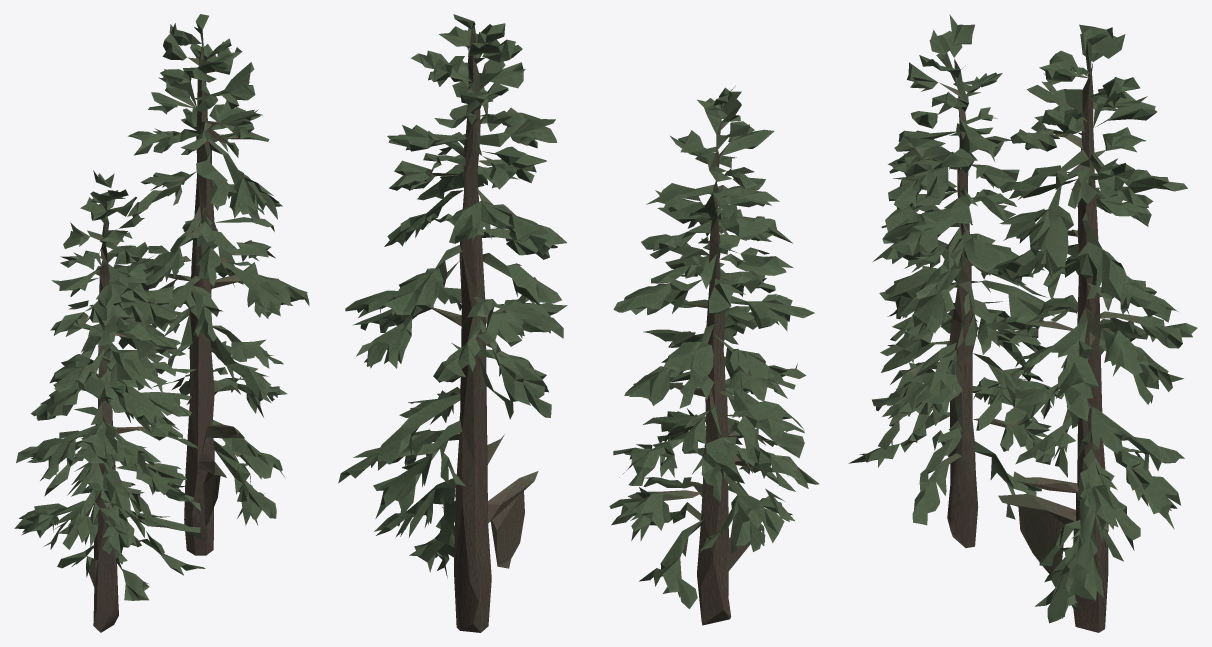
The model's file is pine.glb.
3 renders of one model, left to right at view 1: azimuth 30°, elevation 25°; view 2: azimuth 150°, elevation 25°; view 3: azimuth 270°, elevation 25°, orthographic. The views are drawn at different scales.
Size of the model in its own units: 1.2 by 1.86 by 0.987.
Materials: 1 (1 with a texture image).
